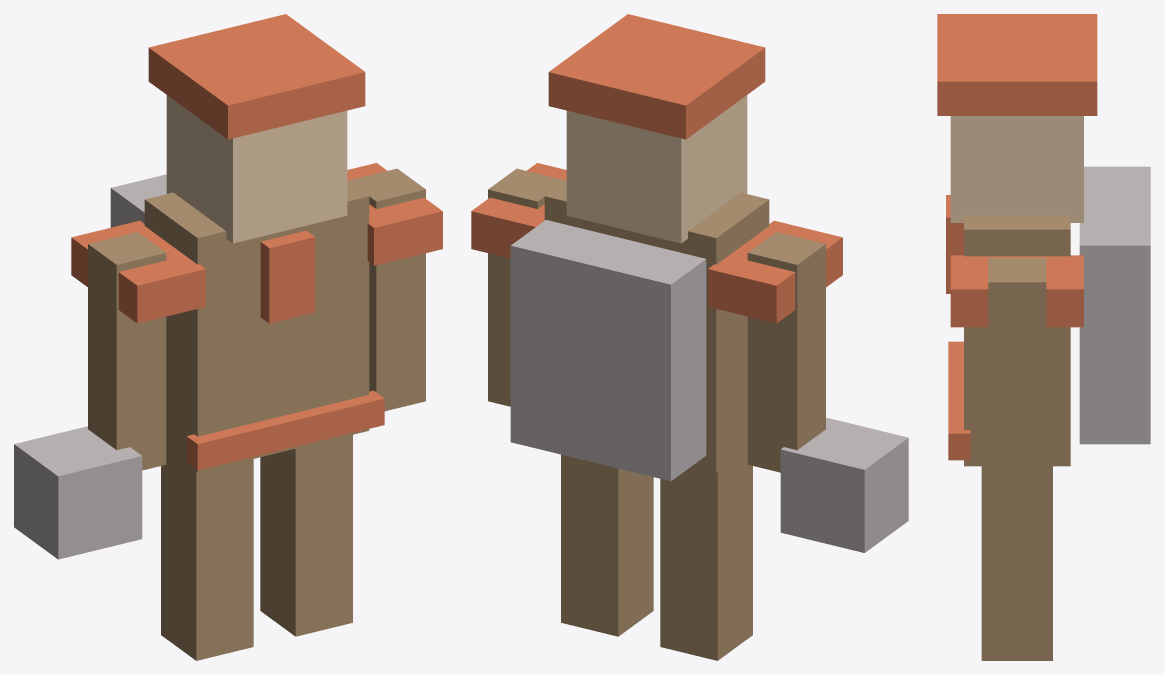
Rendered from 03_sarai_riftwalker_guide_under_smoke.glb.
3 views of the same model, side by side, from view 1: azimuth 30°, elevation 25°; view 2: azimuth 150°, elevation 25°; view 3: azimuth 270°, elevation 25° (orthographic).
Visible parts, largest first — view 1: Sarai Riftwalker, Guide under Smoke; view 2: Sarai Riftwalker, Guide under Smoke; view 3: Sarai Riftwalker, Guide under Smoke.
Boxes of the visible parts, x1,y1,x2,y2 form: Sarai Riftwalker, Guide under Smoke: [14, 14, 442, 660]; Sarai Riftwalker, Guide under Smoke: [471, 14, 908, 660]; Sarai Riftwalker, Guide under Smoke: [937, 14, 1150, 660].
Bounding box in the file's own units: 1.08 × 1.55 × 0.523.
